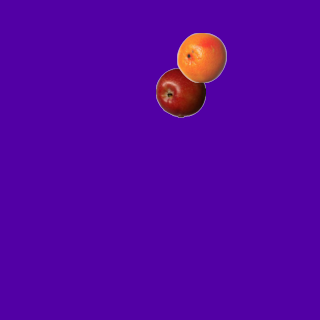Apple Braeburn: (155, 67, 205, 117)
Grapefruit Pink: (176, 32, 226, 82)
